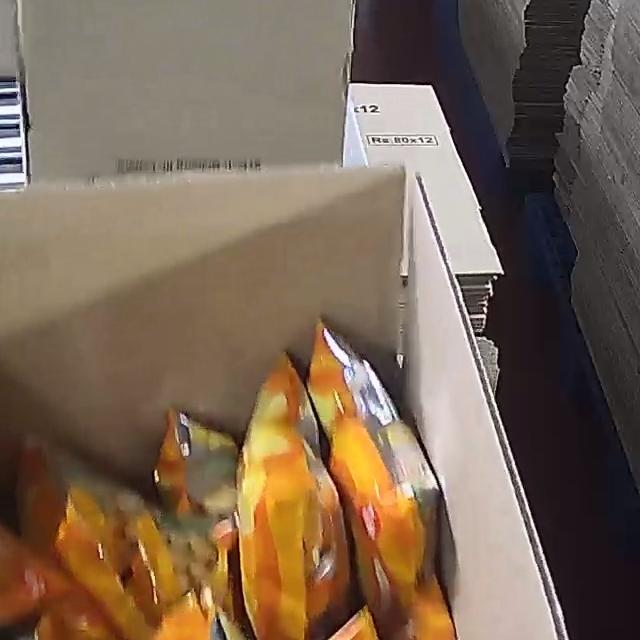cheese: (0, 318, 501, 640)
